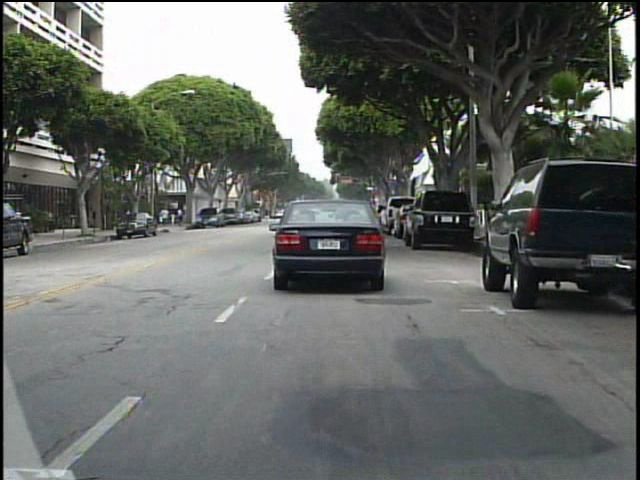person: (158, 205, 172, 231), (175, 203, 188, 230)
